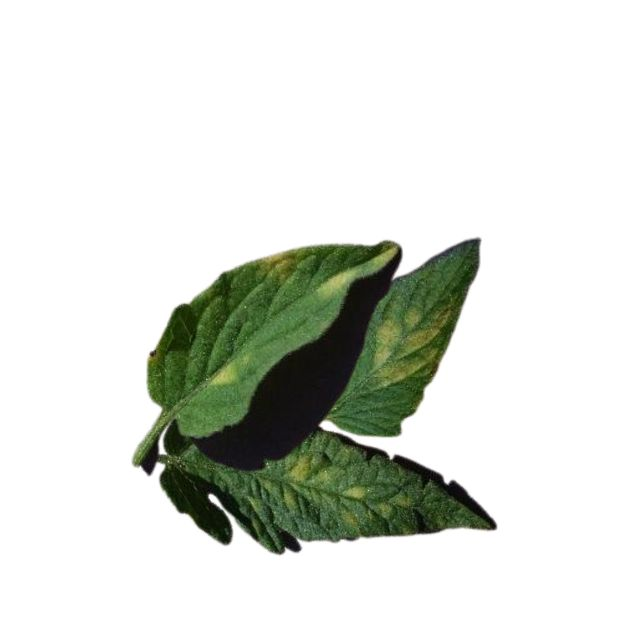Leaf_Mold: (280, 455, 413, 528), (374, 303, 454, 385), (254, 249, 296, 286), (208, 356, 240, 388), (316, 267, 347, 298)
